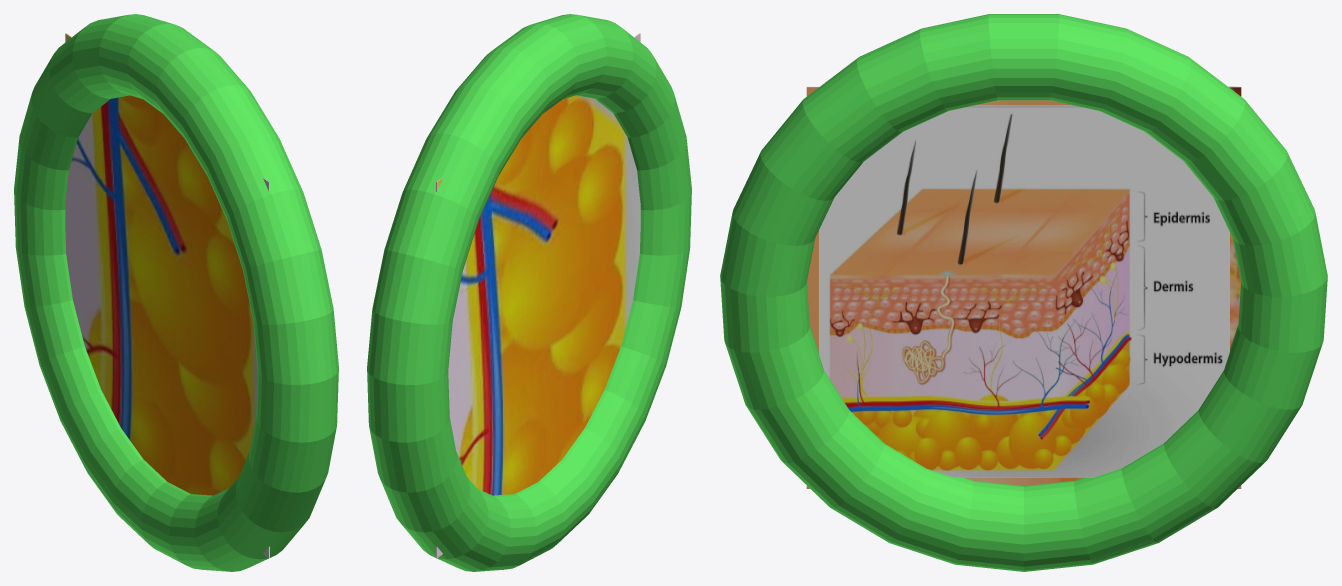
File: Epidermis.fbx
3 renders of one model, left to right at view 1: azimuth 30°, elevation 25°; view 2: azimuth 150°, elevation 25°; view 3: azimuth 270°, elevation 25°, orthographic. The views are drawn at different scales.
Visible parts, largest first — view 1: Torus; view 2: Torus; view 3: Torus.
Part boxes in pixels (x1,y1,x2,y2): Torus: (14, 14, 338, 571); Torus: (367, 14, 691, 571); Torus: (720, 14, 1327, 571).
Bounding box in the file's own units: 16.6 × 116 × 116.
Materials: 2 (1 with a texture image).
